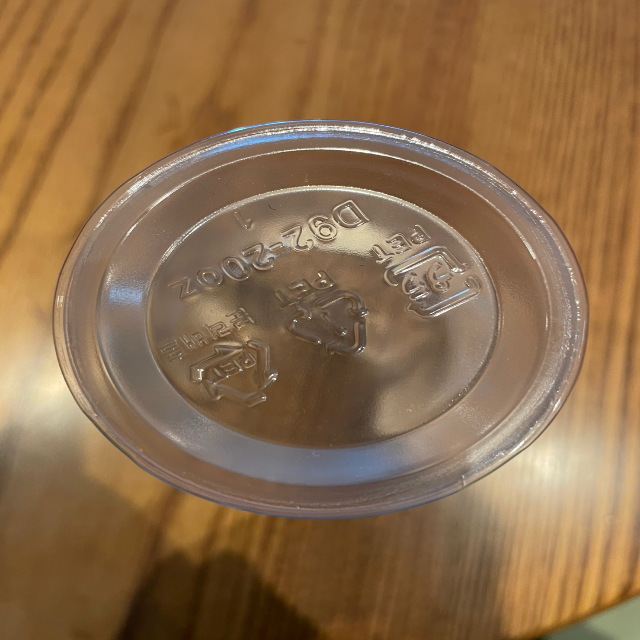pet: (152, 304, 279, 410), (369, 220, 485, 320), (272, 268, 374, 363)
